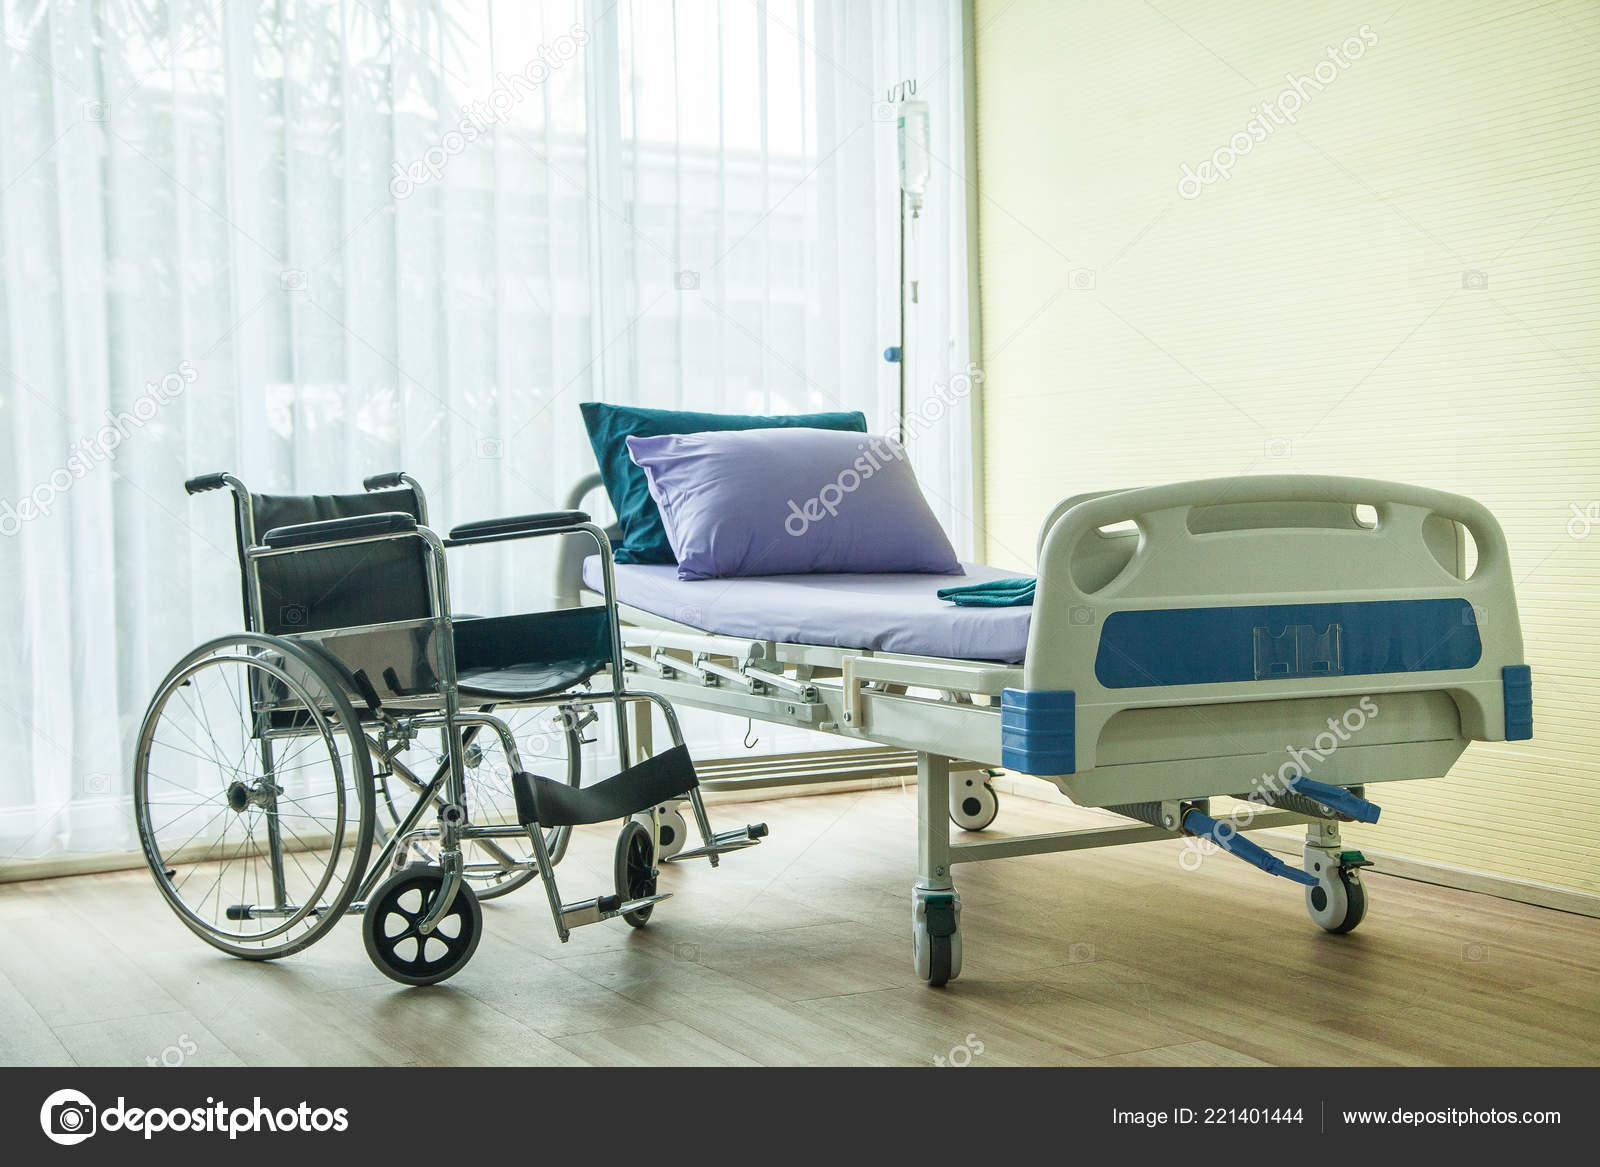bedrail: (601, 614, 1017, 751)
foot_board: (1005, 483, 1548, 774)
hospital_bed: (529, 391, 1553, 986)
iv_pole: (868, 76, 930, 496)
wheel_chair: (143, 466, 781, 983)
